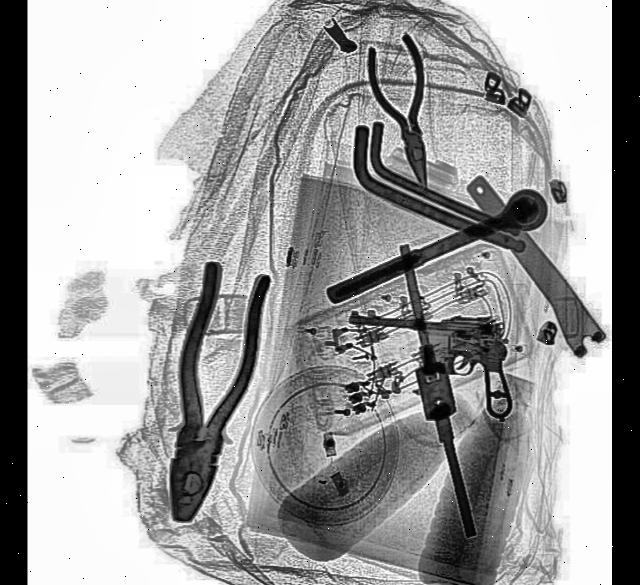Gun: (344, 308, 514, 415)
Pliers: (148, 248, 272, 531), (360, 28, 450, 196)
